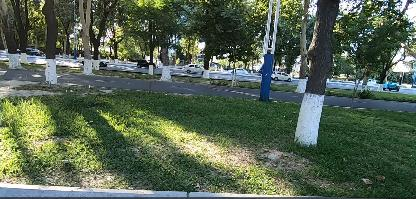car: (181, 63, 206, 74)
tree: (289, 0, 343, 154), (195, 0, 256, 84), (38, 0, 66, 90), (149, 1, 179, 83), (74, 0, 99, 79)
